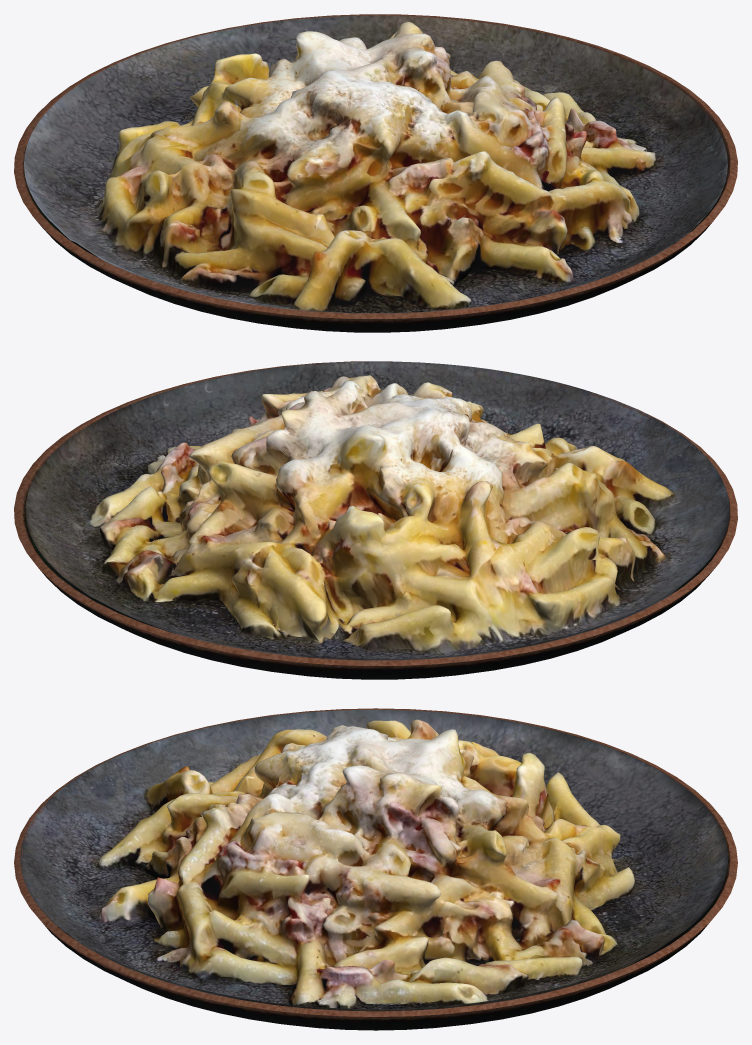
Rendered from Plato_04.glb.
3 renders of one model, top to bottom at view 1: azimuth 30°, elevation 25°; view 2: azimuth 150°, elevation 25°; view 3: azimuth 270°, elevation 25°, orthographic.
Parts seen in each view (by area): view 1: Carbonara_OpenMesh, Carbonara Blue Plate copy; view 2: Carbonara_OpenMesh, Carbonara Blue Plate copy; view 3: Carbonara_OpenMesh, Carbonara Blue Plate copy.
Boxes of the visible parts, <box> form: Carbonara_OpenMesh: <box>24,15,727,313</box>; Carbonara Blue Plate copy: <box>14,14,737,332</box>; Carbonara_OpenMesh: <box>25,361,729,660</box>; Carbonara Blue Plate copy: <box>14,361,737,679</box>; Carbonara_OpenMesh: <box>20,710,728,1011</box>; Carbonara Blue Plate copy: <box>14,708,737,1030</box>.
Bounding box in the file's own units: 0.2498 × 0.0617 × 0.2478.
2 materials, 2 textured.
